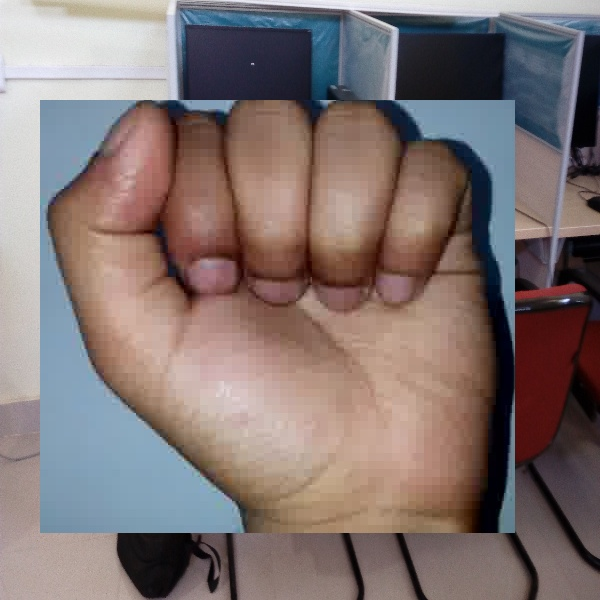A: (40, 100, 515, 533)
